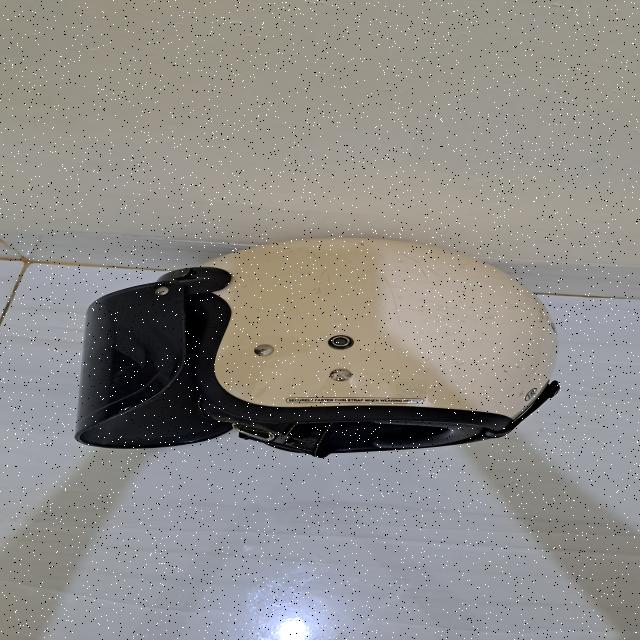Helmet: (75, 238, 561, 460)
